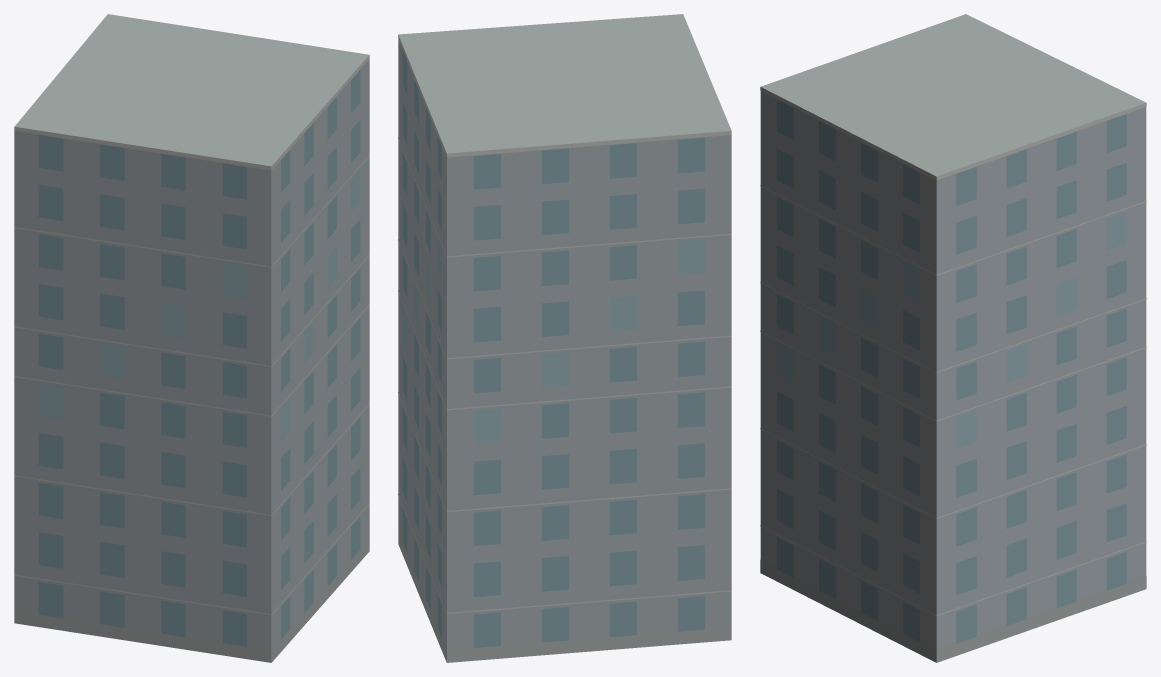
The model's file is residential-a588c0e6-70ab-4600-b531-4d7058a83a0b.glb.
3 renders of one model, left to right at view 1: azimuth 30°, elevation 25°; view 2: azimuth 150°, elevation 25°; view 3: azimuth 270°, elevation 25°, orthographic. The views are drawn at different scales.
Parts seen in each view (by area): view 1: residential-a588c0e6-70ab-4600-b531-4d7058a83a0b.tmp; view 2: residential-a588c0e6-70ab-4600-b531-4d7058a83a0b.tmp; view 3: residential-a588c0e6-70ab-4600-b531-4d7058a83a0b.tmp.
Boxes of the visible parts, x1,y1,x2,y2 form: residential-a588c0e6-70ab-4600-b531-4d7058a83a0b.tmp: (14,14,369,662); residential-a588c0e6-70ab-4600-b531-4d7058a83a0b.tmp: (398,14,731,662); residential-a588c0e6-70ab-4600-b531-4d7058a83a0b.tmp: (760,14,1146,662).
Size of the model in its own units: 21.53 by 30 by 21.6.
